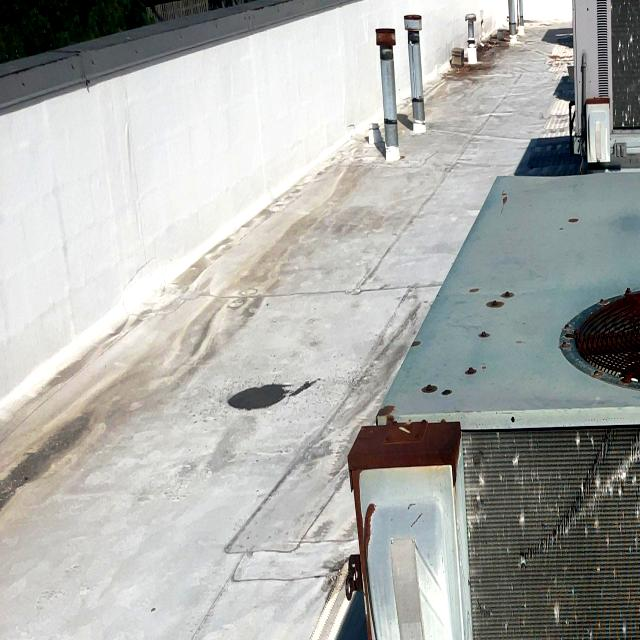GRAVITY-VENT: (399, 9, 429, 142), (375, 23, 402, 170), (462, 11, 477, 64), (506, 0, 516, 49)
RTU: (343, 163, 639, 640), (559, 0, 640, 183)
